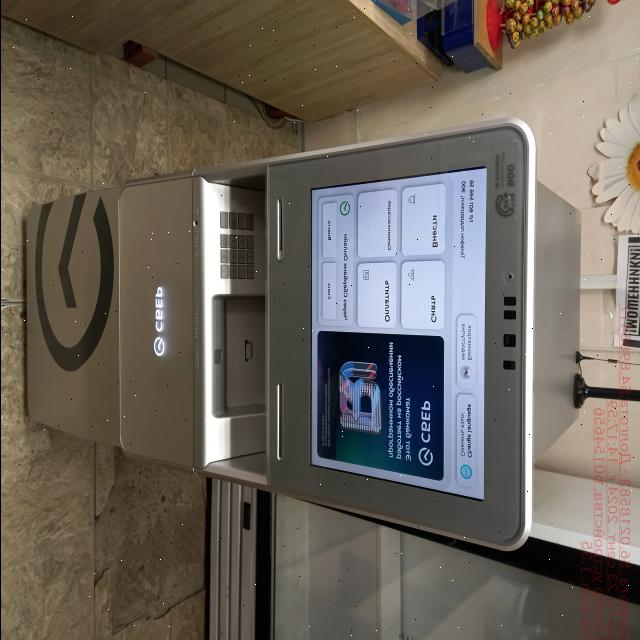bank: (18, 120, 580, 546)
